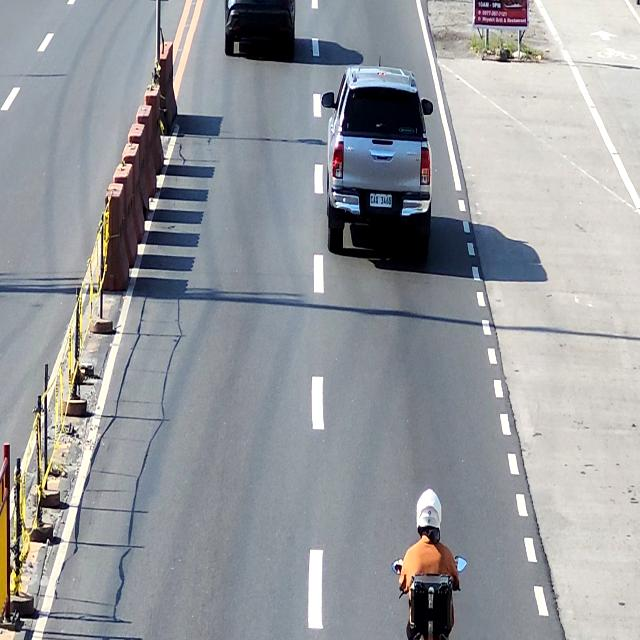Car: (321, 65, 434, 269), (225, 0, 296, 57)
License-Plate: (370, 193, 392, 207)
Motorcycle: (392, 557, 469, 640)
